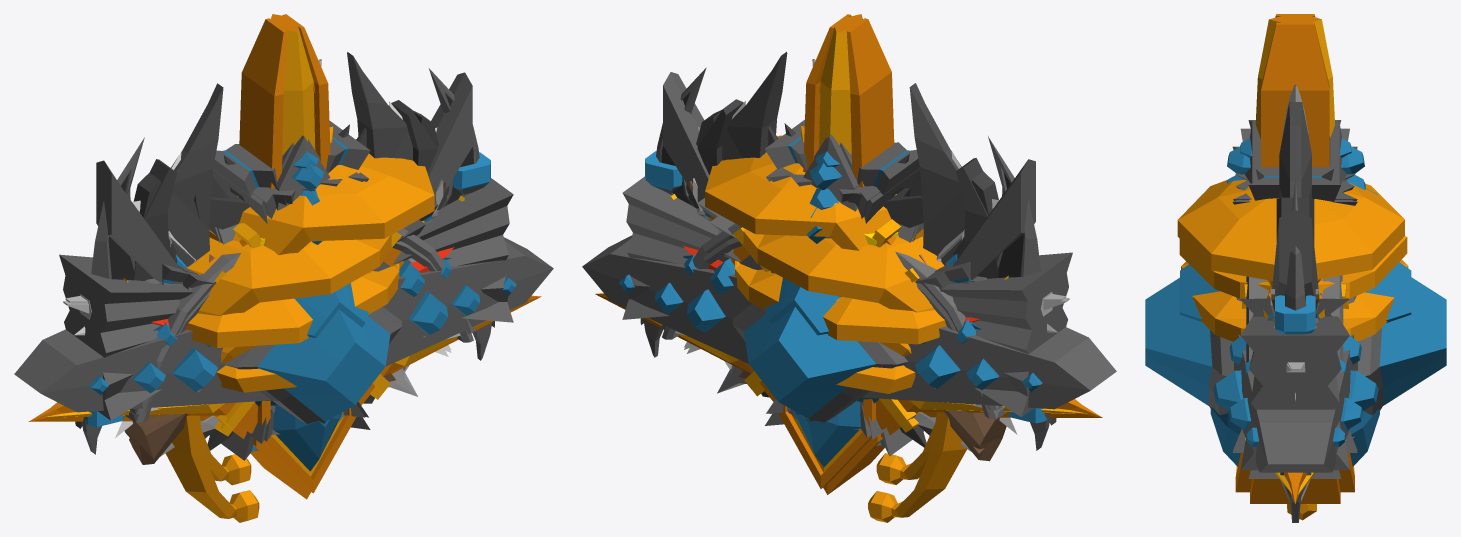
Rendered from SwordModularHilt.fbx.
3 renders of one model, left to right at view 1: azimuth 30°, elevation 25°; view 2: azimuth 150°, elevation 25°; view 3: azimuth 270°, elevation 25°, orthographic. The views are drawn at different scales.
Visible parts, largest first — view 1: model_74.001_part_002.001, model_74.001_part_196.001, model_74.001_part_044.001, model_74.001_part_140.001, model_74.001_part_112.001, model_74.001_part_082.001, model_74.001_part_011.001, model_74.001_part_066.001, model_74.001_part_008.001, model_74.001_part_169.001, model_74.001_part_025.001, model_74.001_part_000.001 (+12 smaller); view 2: model_74.001_part_002.001, model_74.001_part_196.001, model_74.001_part_044.001, model_74.001_part_112.001, model_74.001_part_140.001, model_74.001_part_082.001, model_74.001_part_011.001, model_74.001_part_066.001, model_74.001_part_008.001, model_74.001_part_169.001, model_74.001_part_000.001, model_74.001_part_025.001 (+12 smaller); view 3: model_74.001_part_002.001, model_74.001_part_140.001, model_74.001_part_196.001, model_74.001_part_044.001, model_74.001_part_000.001, model_74.001_part_066.001, model_74.001_part_112.001, model_74.001_part_011.001, model_74.001_part_082.001, model_74.001_part_008.001, model_74.001_part_004.001, model_74.001_part_025.001 (+4 smaller).
Boxes of the visible parts, x1=… form: model_74.001_part_002.001: x1=14, y1=135, x2=553, y2=423; model_74.001_part_196.001: x1=45, y1=14, x2=488, y2=493; model_74.001_part_044.001: x1=59, y1=172, x2=513, y2=441; model_74.001_part_140.001: x1=239, y1=153, x2=434, y2=255; model_74.001_part_112.001: x1=187, y1=158, x2=404, y2=485; model_74.001_part_082.001: x1=96, y1=72, x2=472, y2=284; model_74.001_part_011.001: x1=80, y1=52, x2=494, y2=423; model_74.001_part_066.001: x1=165, y1=126, x2=425, y2=522; model_74.001_part_008.001: x1=162, y1=120, x2=438, y2=460; model_74.001_part_169.001: x1=187, y1=298, x2=312, y2=347; model_74.001_part_025.001: x1=82, y1=68, x2=492, y2=454; model_74.001_part_000.001: x1=157, y1=139, x2=451, y2=346; model_74.001_part_002.001: x1=582, y1=134, x2=1116, y2=422; model_74.001_part_196.001: x1=647, y1=14, x2=1086, y2=488; model_74.001_part_044.001: x1=622, y1=168, x2=1072, y2=437; model_74.001_part_112.001: x1=724, y1=159, x2=944, y2=484; model_74.001_part_140.001: x1=705, y1=135, x2=891, y2=250; model_74.001_part_082.001: x1=663, y1=72, x2=1035, y2=279; model_74.001_part_011.001: x1=640, y1=51, x2=1051, y2=421; model_74.001_part_066.001: x1=710, y1=126, x2=966, y2=522; model_74.001_part_008.001: x1=697, y1=119, x2=970, y2=456; model_74.001_part_169.001: x1=823, y1=297, x2=946, y2=344; model_74.001_part_000.001: x1=684, y1=137, x2=975, y2=344; model_74.001_part_025.001: x1=643, y1=67, x2=1049, y2=450; model_74.001_part_002.001: x1=1145, y1=122, x2=1446, y2=472; model_74.001_part_140.001: x1=1177, y1=179, x2=1404, y2=280; model_74.001_part_196.001: x1=1210, y1=14, x2=1379, y2=495; model_74.001_part_044.001: x1=1233, y1=128, x2=1357, y2=470; model_74.001_part_000.001: x1=1180, y1=136, x2=1411, y2=375; model_74.001_part_066.001: x1=1192, y1=291, x2=1394, y2=520; model_74.001_part_112.001: x1=1179, y1=236, x2=1407, y2=298; model_74.001_part_011.001: x1=1279, y1=102, x2=1311, y2=496; model_74.001_part_082.001: x1=1272, y1=209, x2=1318, y2=317; model_74.001_part_008.001: x1=1248, y1=120, x2=1341, y2=478; model_74.001_part_004.001: x1=1250, y1=479, x2=1340, y2=503; model_74.001_part_025.001: x1=1285, y1=177, x2=1306, y2=522.
Size of the model in its own units: 254 by 232 by 122.
Materials: 1 (1 with a texture image).
